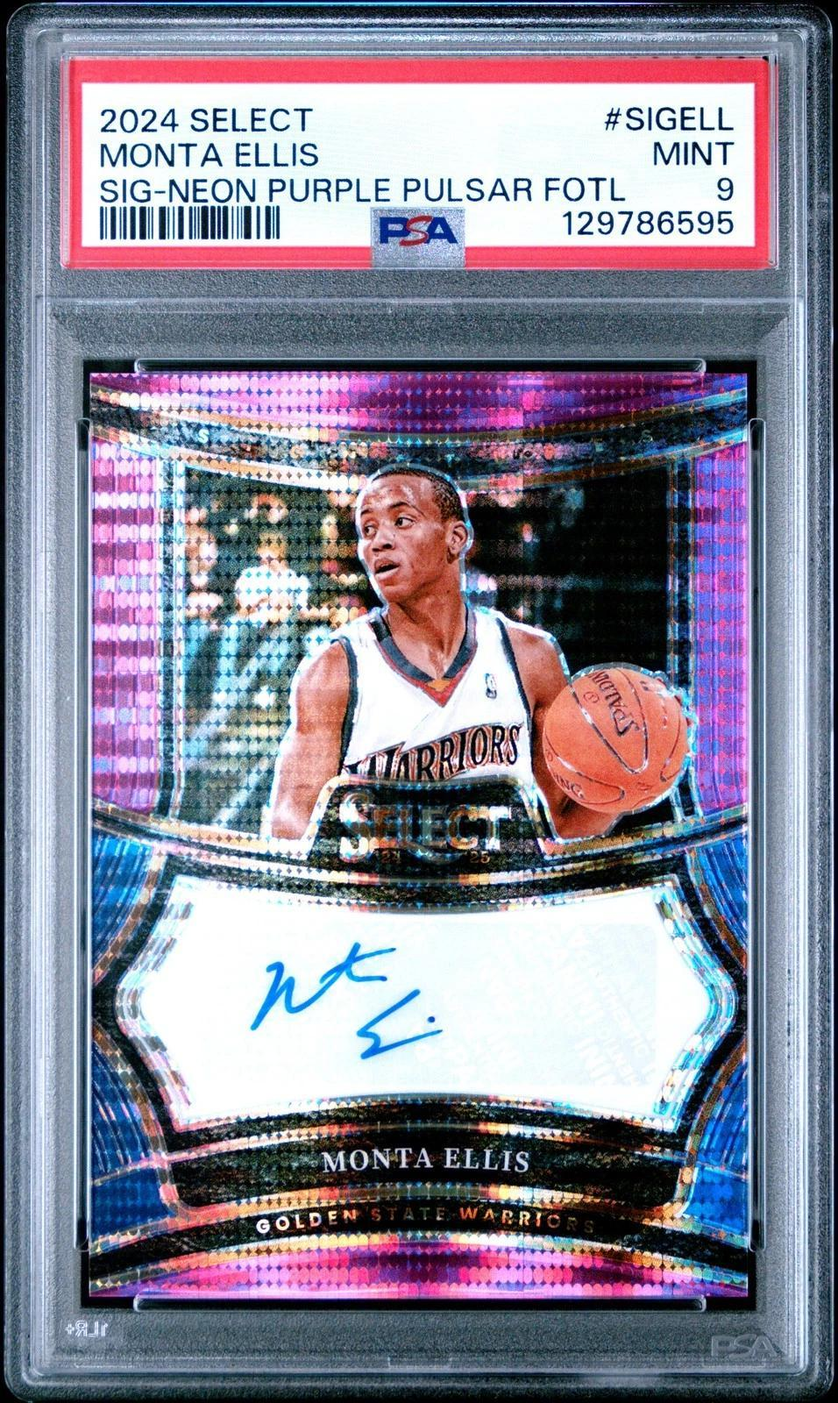card-2UtV: (89, 372, 749, 1298)
